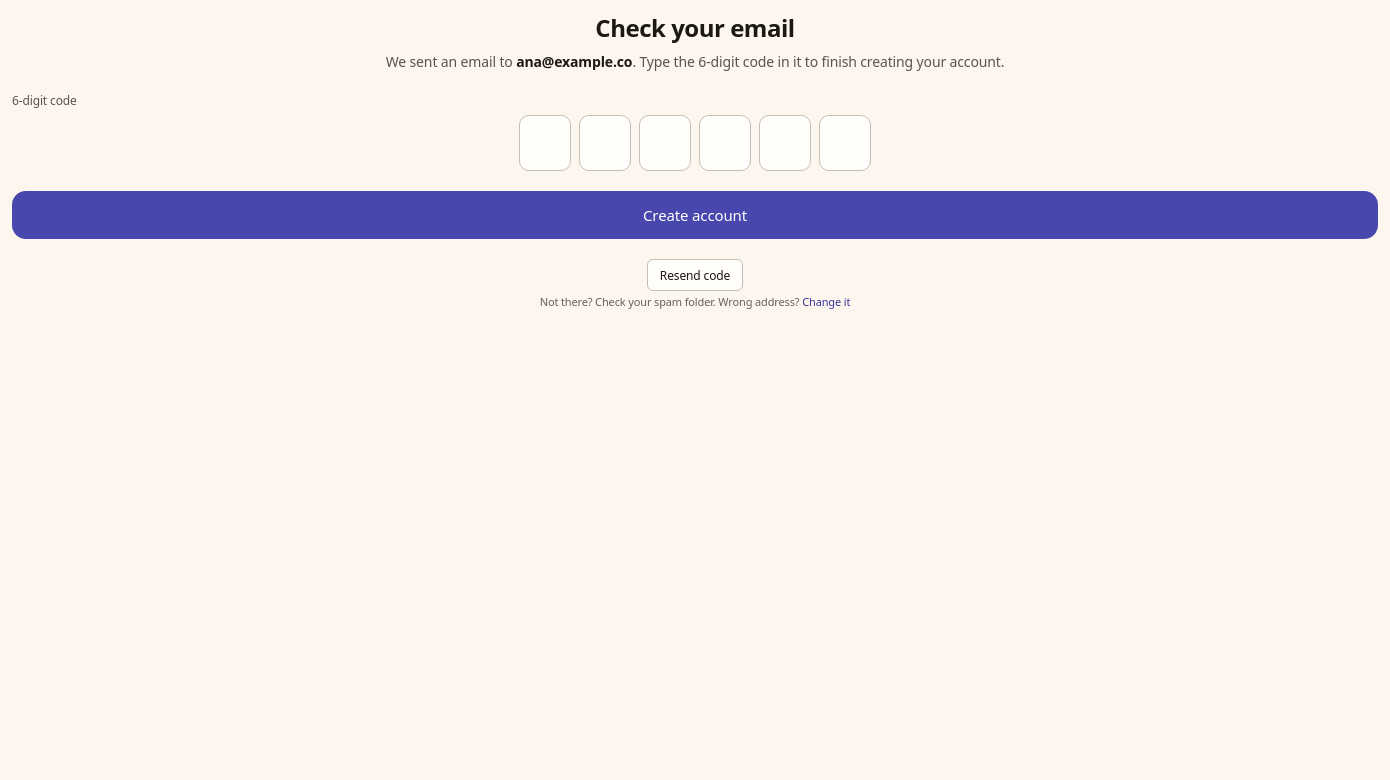
Scenario: RegisterView › goes back to the form when the email got an account while the code was on its way
Step 1. Type "482719" into the field labelled "6-digit code" → (695, 143), box x1=12 y1=115 x2=1378 y2=171
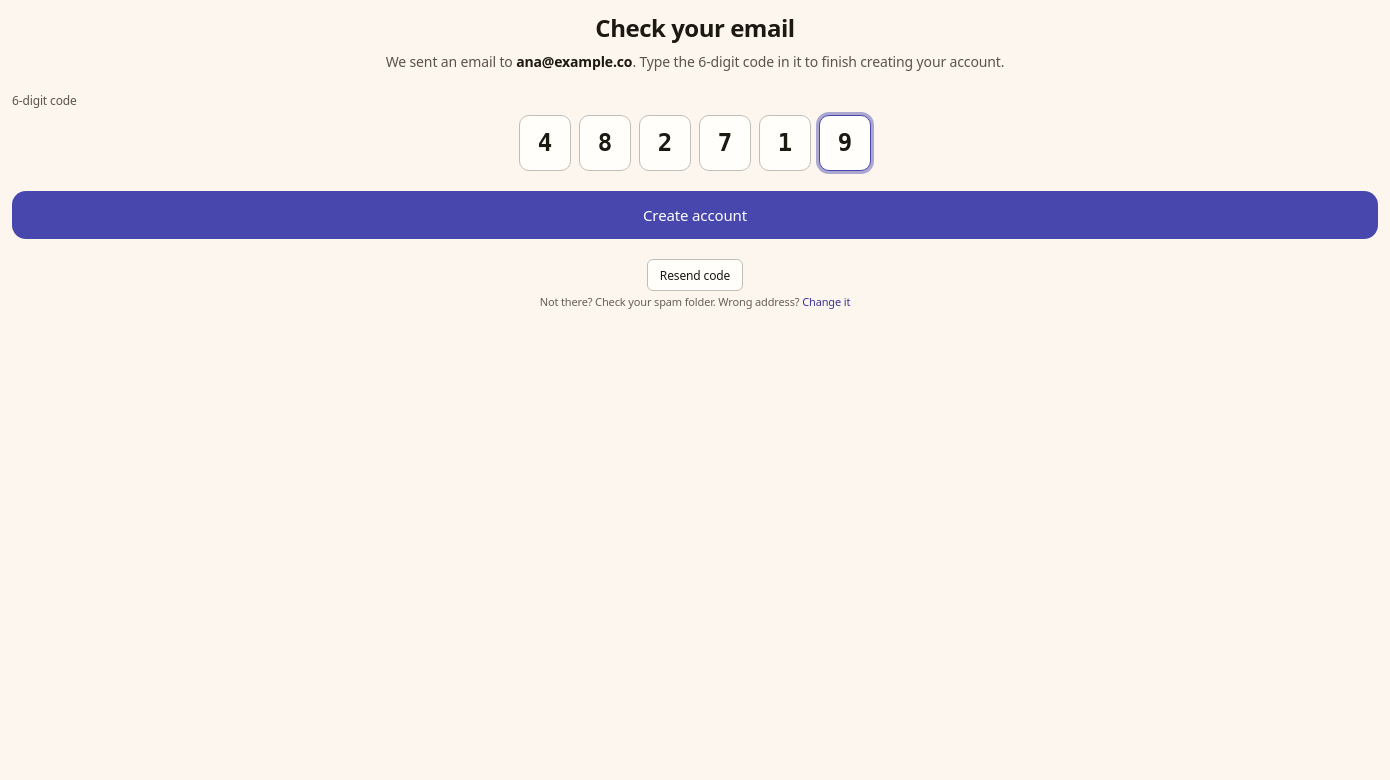
Step 2. Click the 1st button named "Create account" → (695, 215), box x1=12 y1=191 x2=1378 y2=239
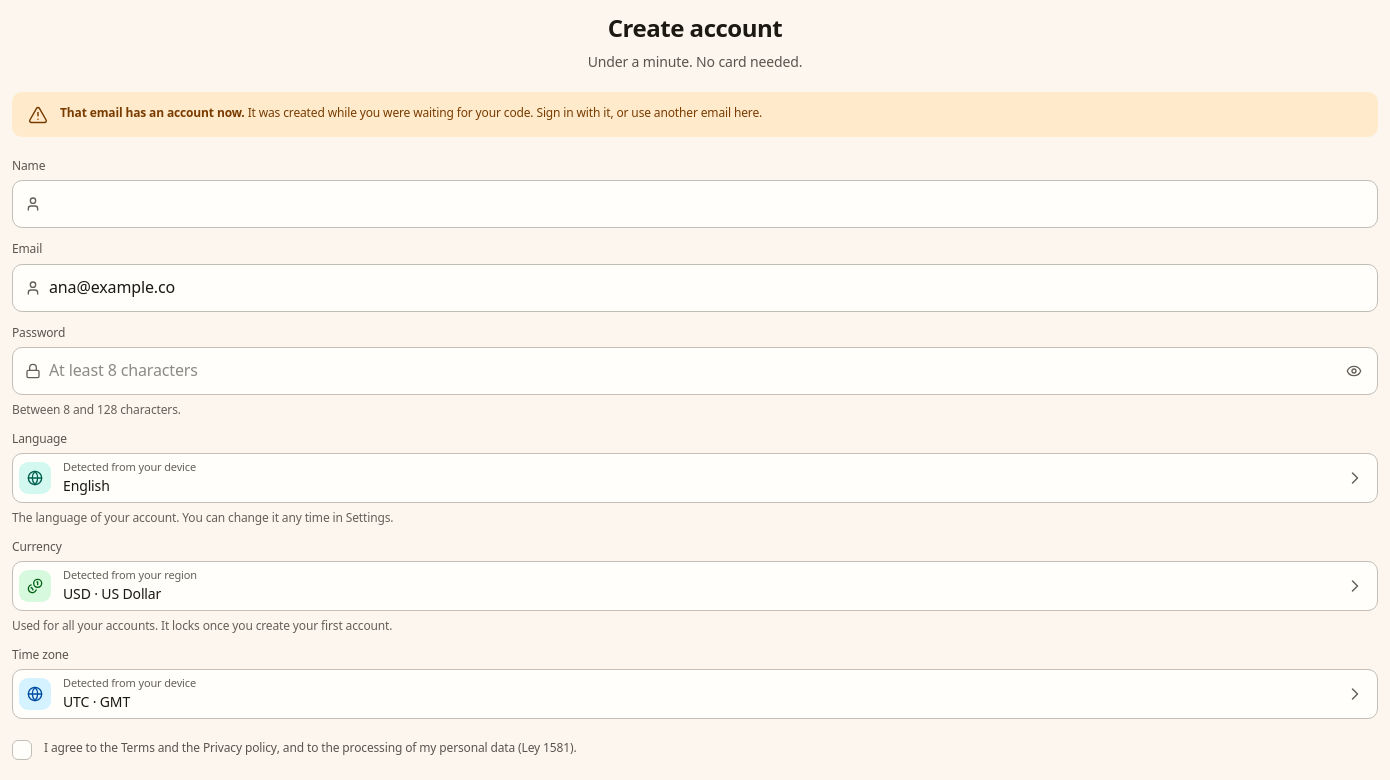
Now the text "That email has an account now." is shown, box x1=60 y1=104 x2=245 y2=121
Now the field labelled "Email" holds "ana@example.co", box x1=49 y1=276 x2=1365 y2=299
